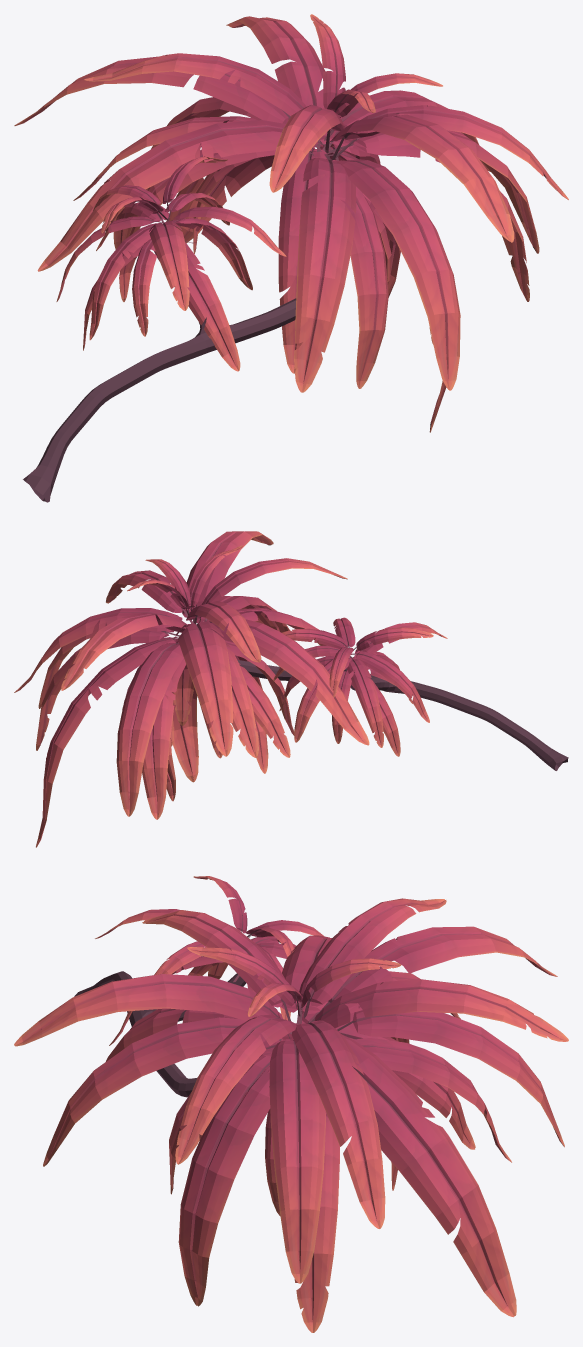
The model's file is palmB.glb.
3 views of the same model, one above another, from view 1: azimuth 30°, elevation 25°; view 2: azimuth 150°, elevation 25°; view 3: azimuth 270°, elevation 25° (orthographic). The views are drawn at different scales.
Parts seen in each view (by area): view 1: leaf1.003, leaf2.002, tree.001; view 2: leaf1.003, leaf2.002, tree.001; view 3: leaf1.003, leaf2.002, tree.001.
Boxes of the visible parts, x1=… form: leaf1.003: x1=14, y1=14, x2=568, y2=432; leaf2.002: x1=56, y1=156, x2=286, y2=371; tree.001: x1=23, y1=298, x2=296, y2=502; leaf1.003: x1=14, y1=531, x2=369, y2=847; leaf2.002: x1=273, y1=617, x2=447, y2=756; tree.001: x1=237, y1=659, x2=568, y2=770; leaf1.003: x1=14, y1=898, x2=568, y2=1332; leaf2.002: x1=95, y1=876, x2=323, y2=1045; tree.001: x1=74, y1=971, x2=246, y2=1097.
Bounding box in the file's own units: 9.95 × 5.32 × 7.95.
Materials: 2 (1 with a texture image).
